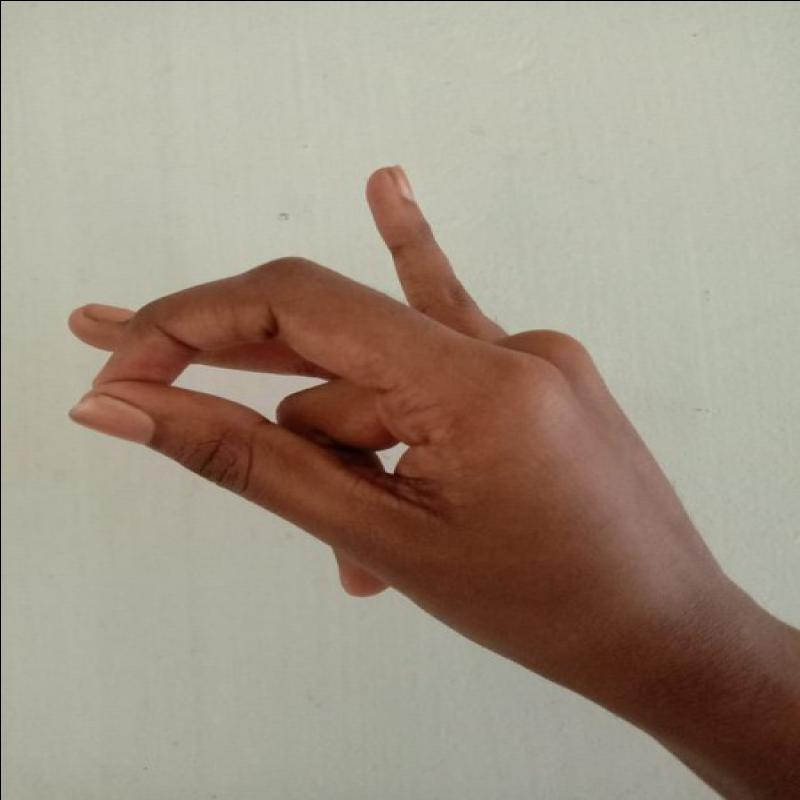Katakam: (54, 145, 694, 659)
